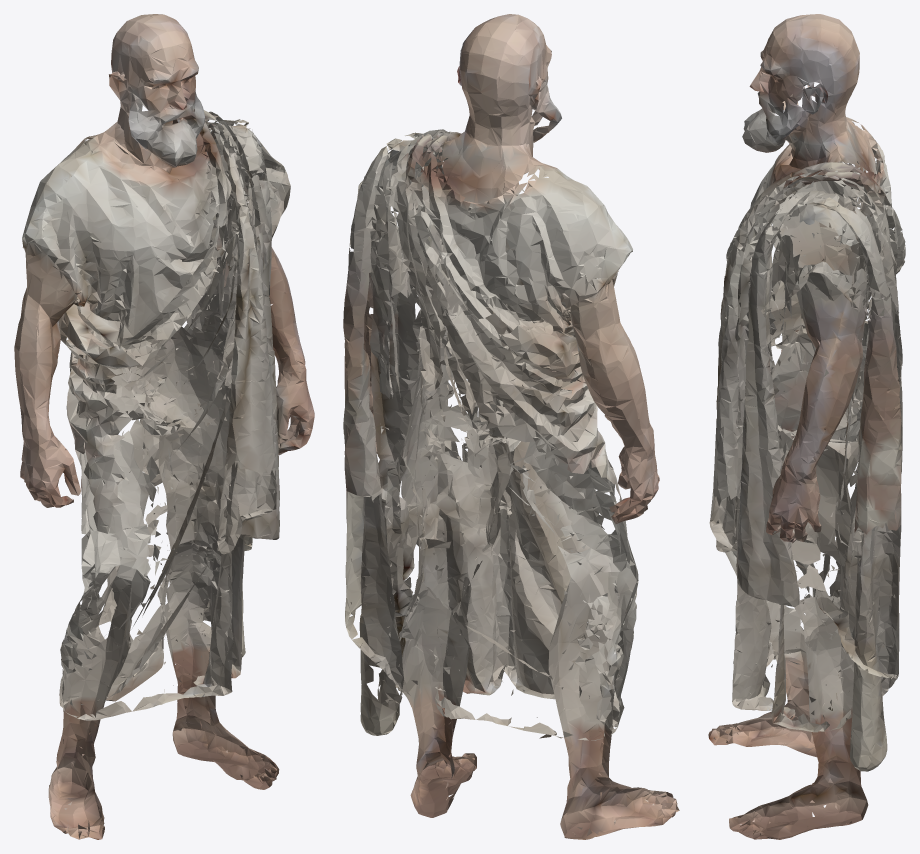
Rendered from socrates.glb.
The picture shows the model from 3 angles, left to right: view 1: azimuth 30°, elevation 25°; view 2: azimuth 150°, elevation 25°; view 3: azimuth 270°, elevation 25°; orthographic projection. The views are drawn at different scales.
Bounding box in the file's own units: 0.6455 × 1.66 × 0.3821.
